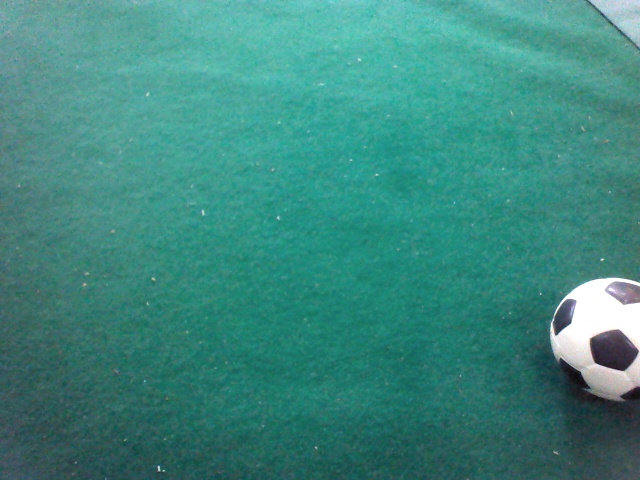ball: (97, 297, 246, 450)
